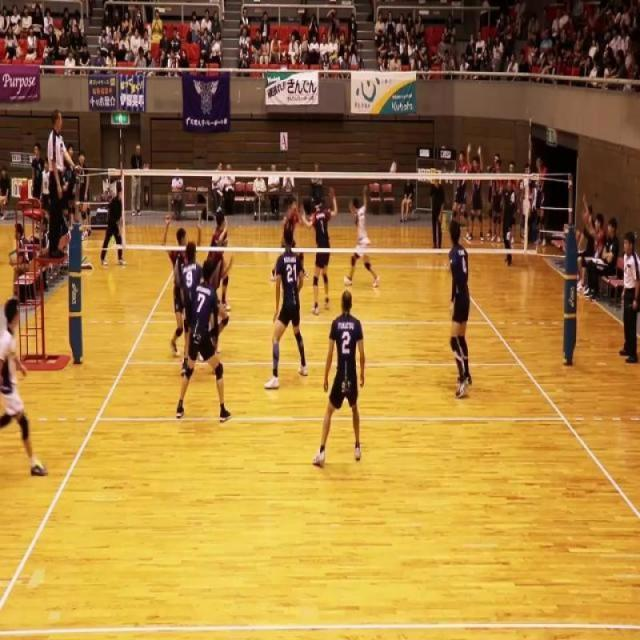volleyball: (389, 161, 397, 174)
